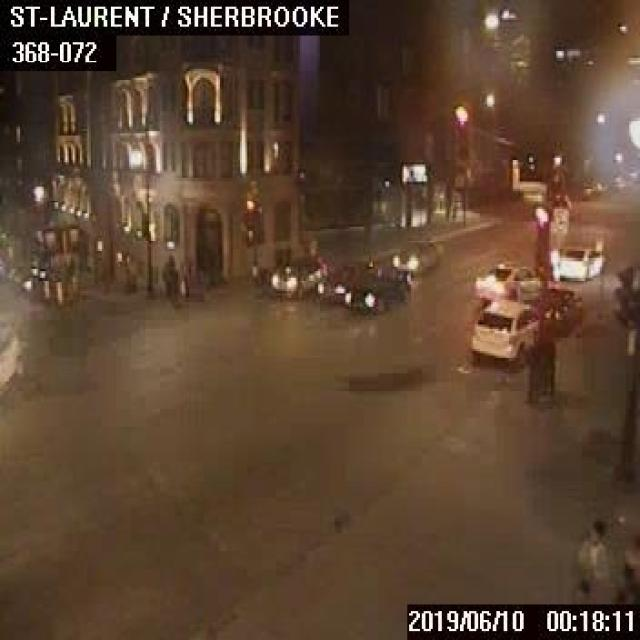pedestrian: (573, 518, 609, 600), (609, 529, 638, 600)
vehicle: (469, 296, 542, 362), (344, 265, 410, 312), (473, 262, 541, 300), (314, 264, 378, 302), (270, 254, 324, 297), (556, 244, 606, 278), (538, 285, 580, 325), (391, 238, 438, 272), (0, 322, 20, 396)
